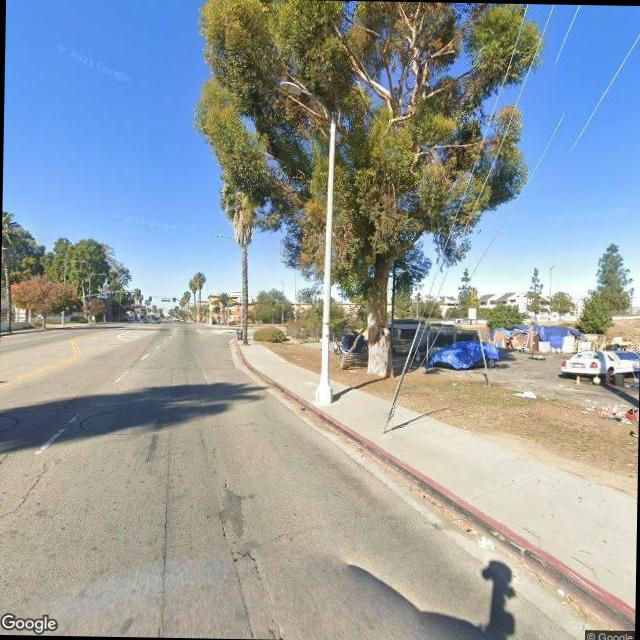pothole: (0, 453, 51, 588)
